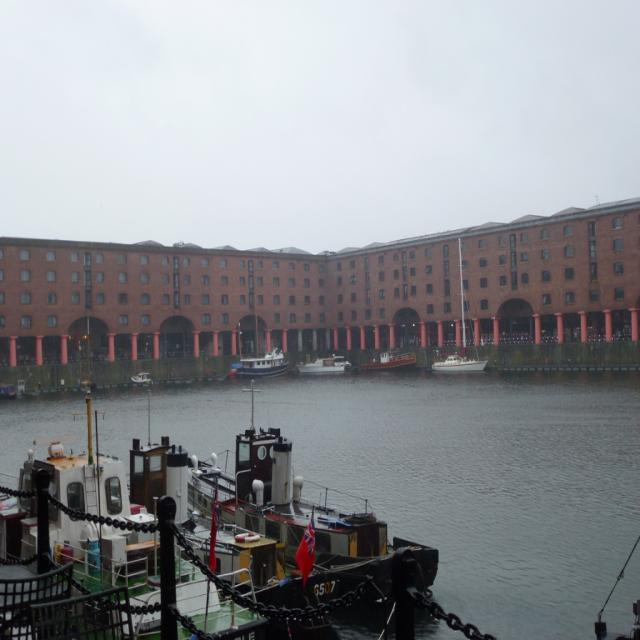Boat: (172, 396, 460, 598), (428, 238, 489, 377), (358, 349, 428, 372), (228, 349, 292, 372), (301, 354, 354, 371), (128, 368, 152, 392)
